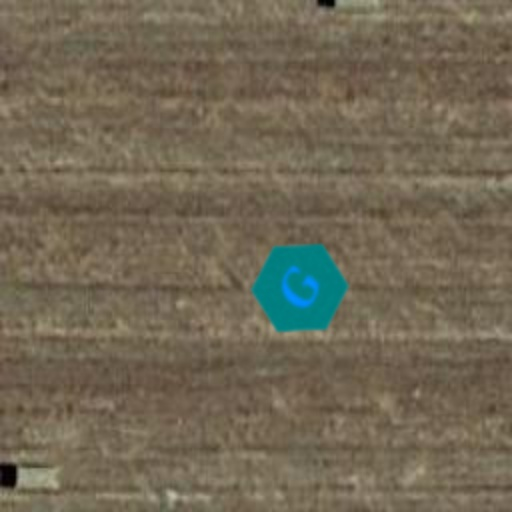hexagon: (232, 220, 368, 356)
